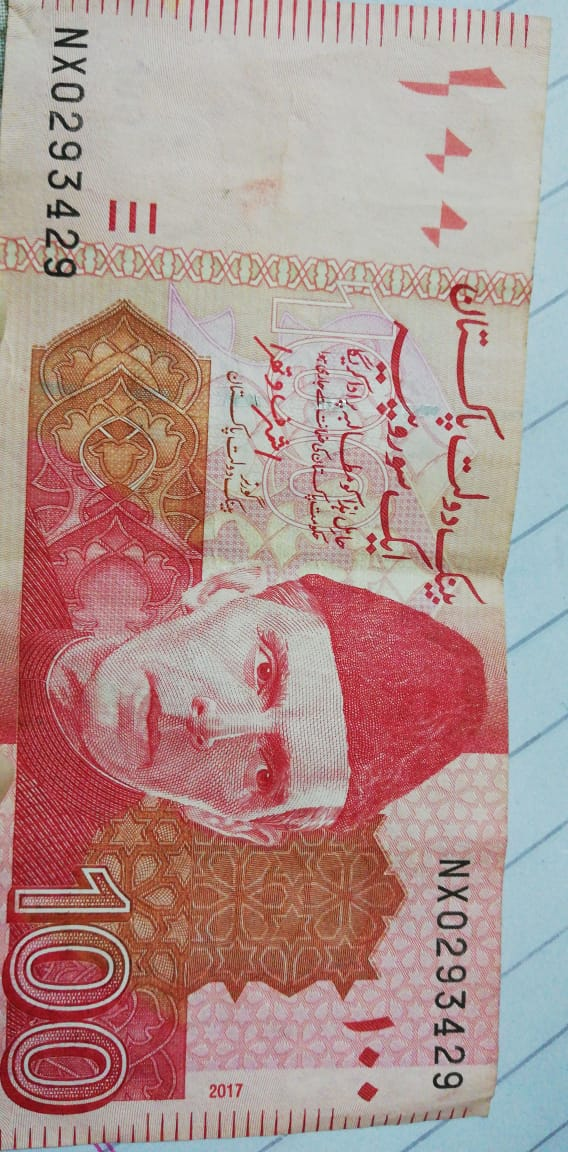100 rupee: (5, 22, 536, 1152)
